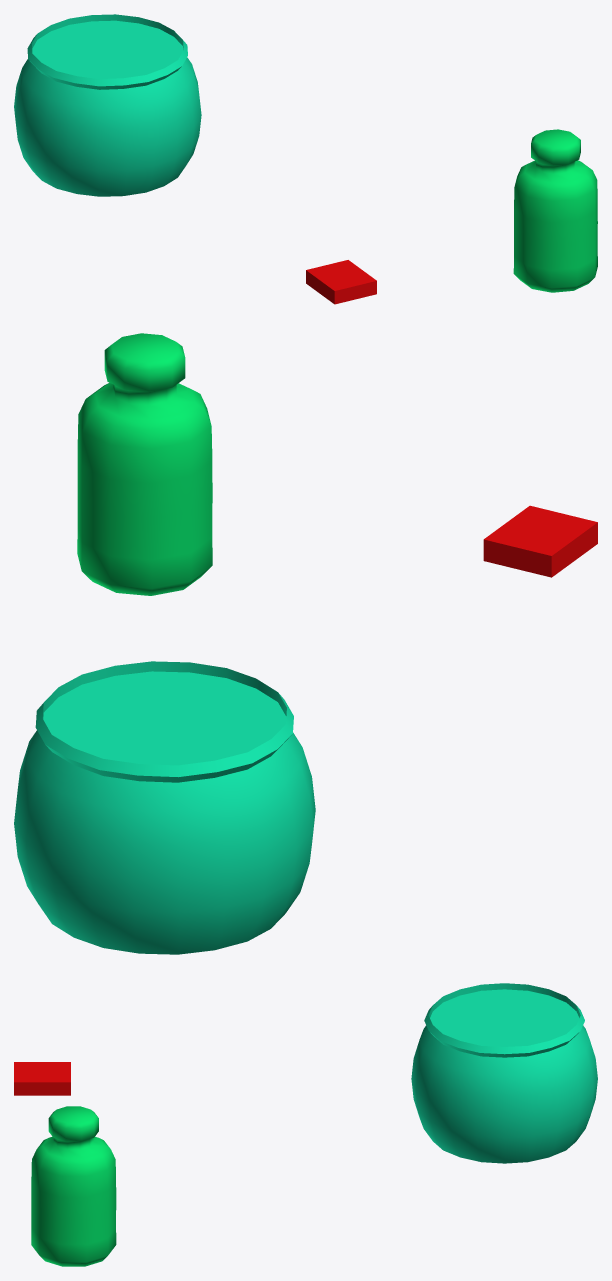
Rendered from PotAmmoHealth.fbx.
3 renders of one model, top to bottom at view 1: azimuth 30°, elevation 25°; view 2: azimuth 150°, elevation 25°; view 3: azimuth 270°, elevation 25°, orthographic. The views are drawn at different scales.
Parts seen in each view (by area): view 1: Pot, Health Drink, Ammo Pack; view 2: Pot, Health Drink, Ammo Pack; view 3: Pot, Health Drink, Ammo Pack.
Part boxes in pixels (x1,y1,x2,y2): Pot: [14, 14, 201, 196]; Health Drink: [513, 129, 597, 292]; Ammo Pack: [306, 260, 376, 304]; Pot: [14, 661, 315, 954]; Health Drink: [77, 333, 212, 595]; Ammo Pack: [483, 505, 597, 577]; Pot: [411, 983, 597, 1163]; Health Drink: [31, 1106, 116, 1266]; Ammo Pack: [14, 1062, 70, 1095].
Bounding box in the file's own units: 544 × 209 × 801.
